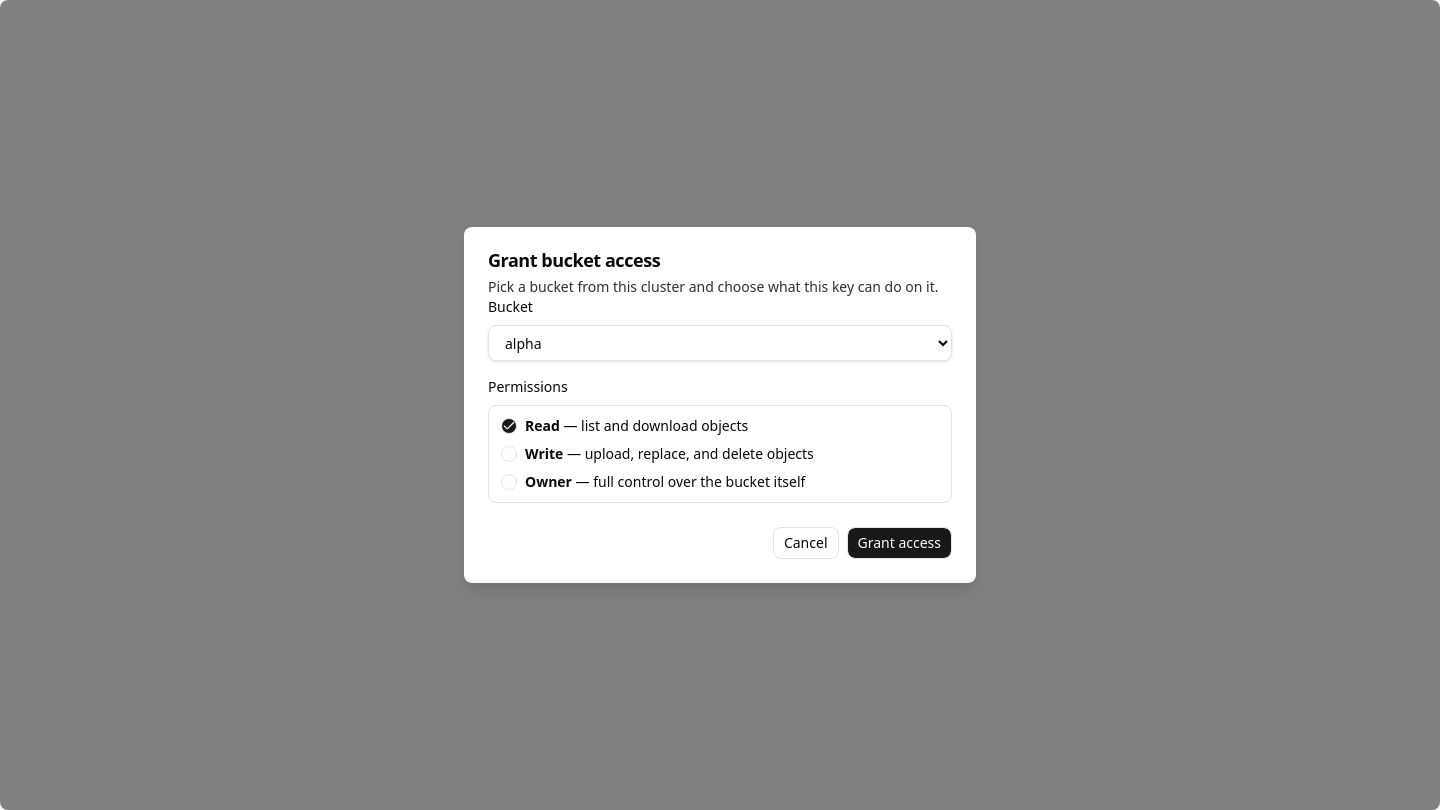
GrantBucketAccessDialog › disables Grant when no permission is selected
# Uncheck the default Read box.
Click the checkbox "Read": (625, 426) x1=501 y1=416 x2=748 y2=435
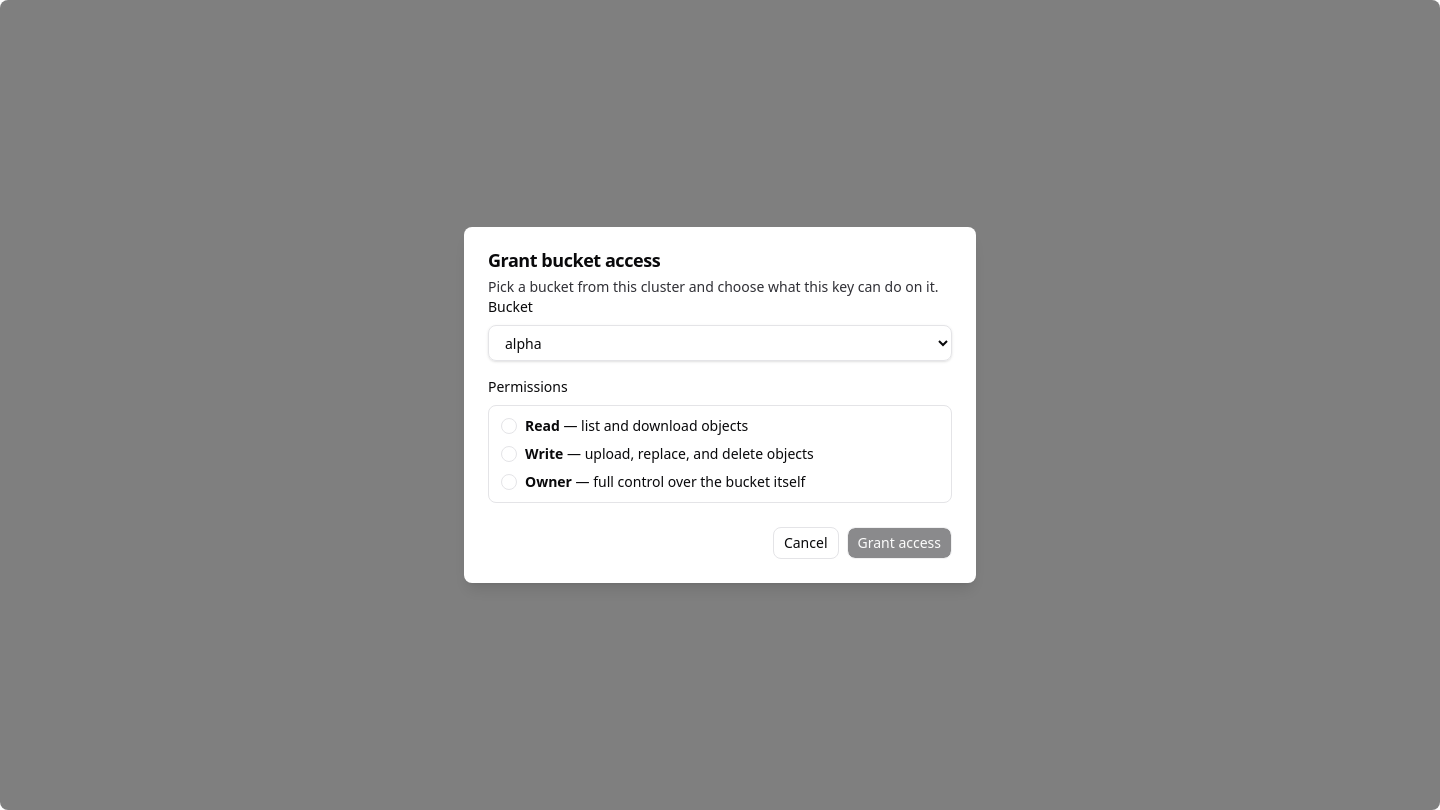
Expected: the button "Grant access" is disabled, x1=846 y1=527 x2=952 y2=559
